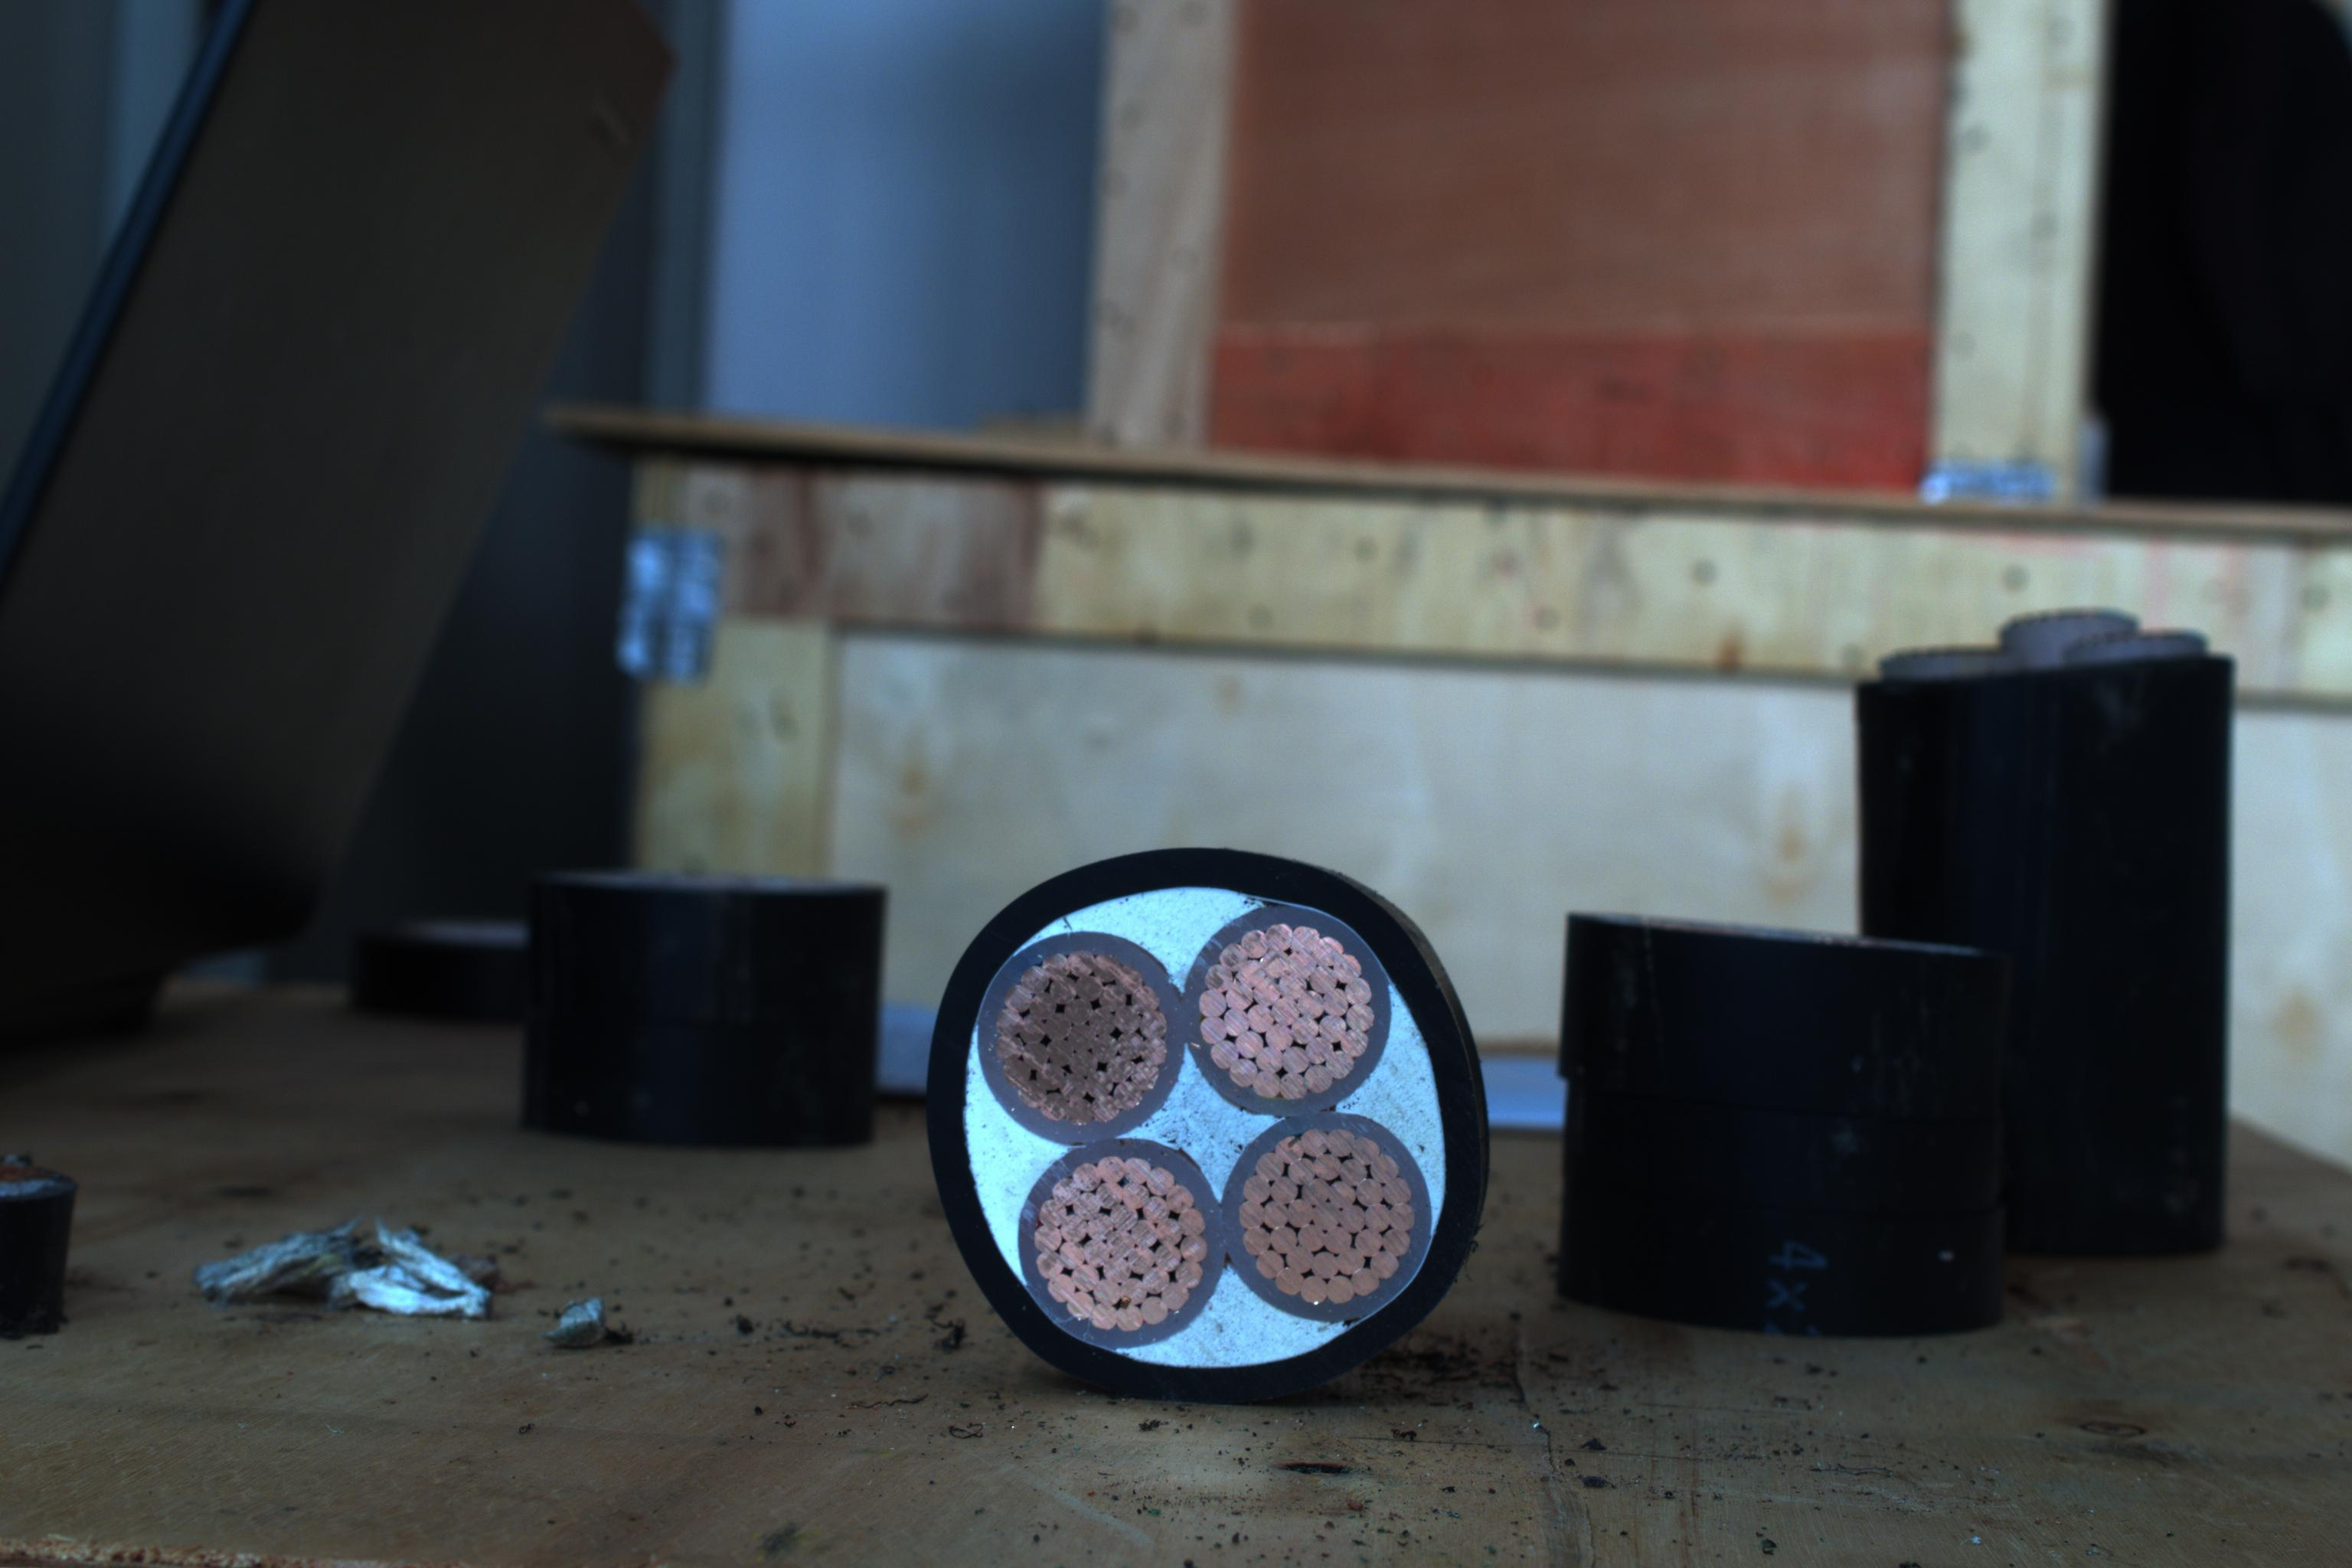YJV_0.6_1kV_4x240: (912, 845, 1508, 1416)
